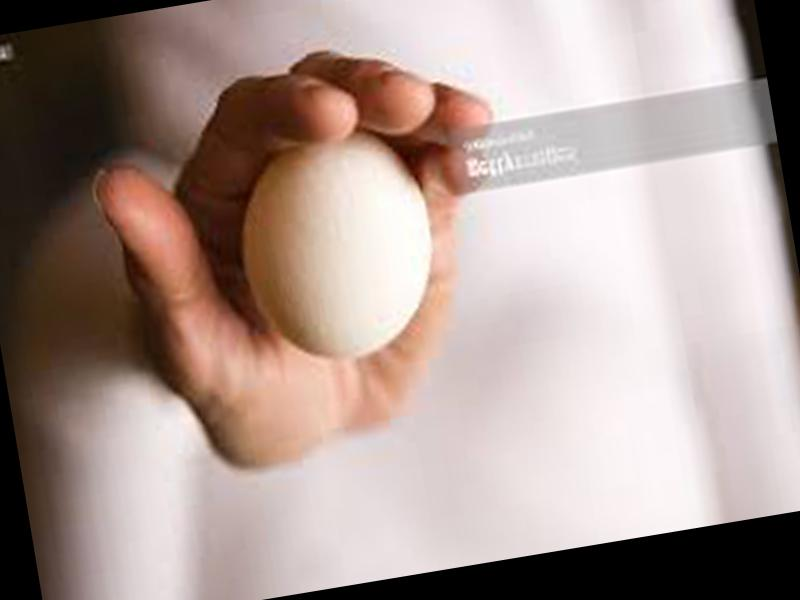Eggs: (222, 122, 448, 370)
